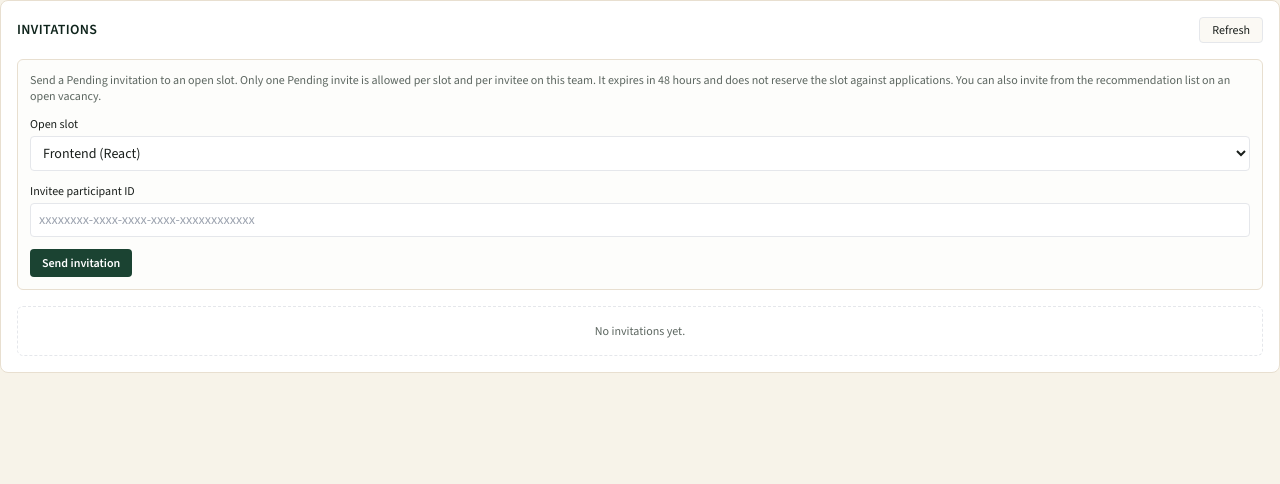
Test: OwnerInvitationsPanel (US-017 / #167 invite form + invitation view) › sends invitation and shows success while refreshing list
Expected: the button with test id "send-invitation" is shown, [30,249,132,277]
Type "22222222-2222-4222-8222-222222222222" into the field with test id "invite-participant-input" at (640, 220), box [30,203,1250,237]
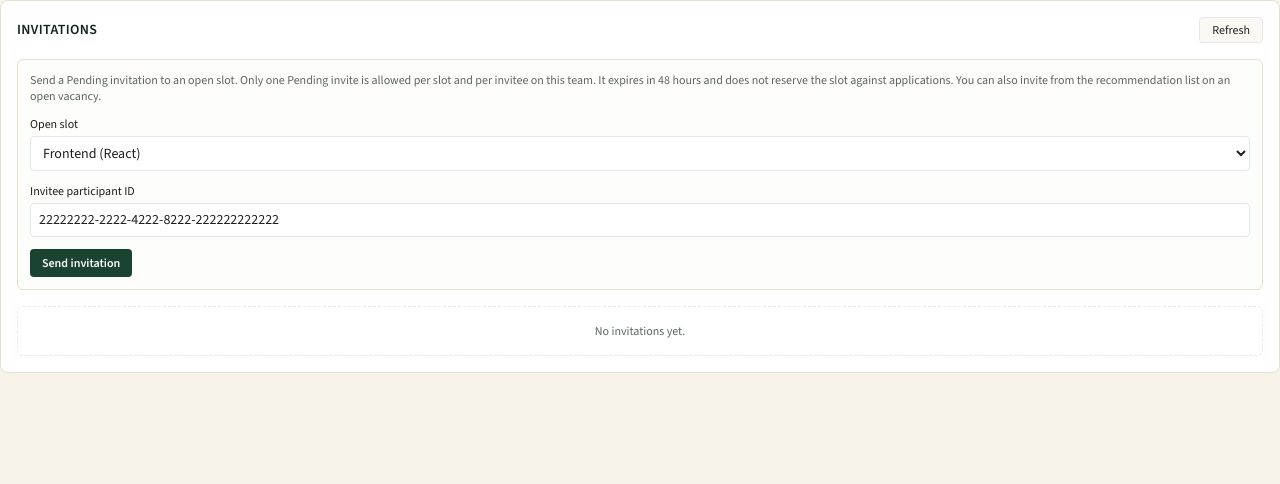
Click the button with test id "send-invitation" at (81, 263), box [30,249,132,277]
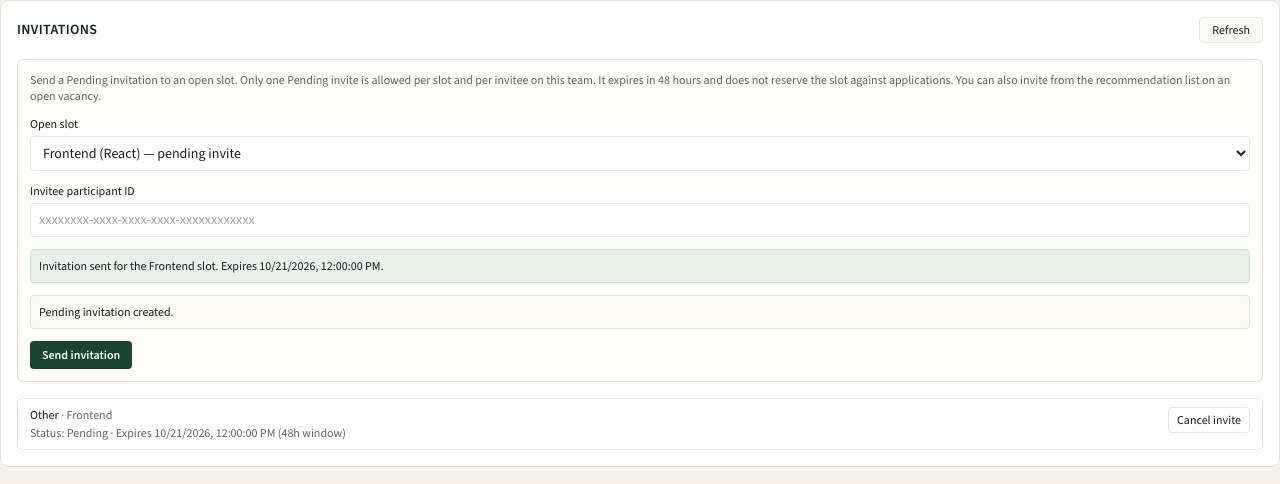
Expected: the message "Invitation sent for the Frontend slot. Expires 10/21/2026, 12:00:00 PM." is shown, [30,249,1250,283]
Expected: the list with test id "invitations-list" is shown, [17,398,1263,450]
